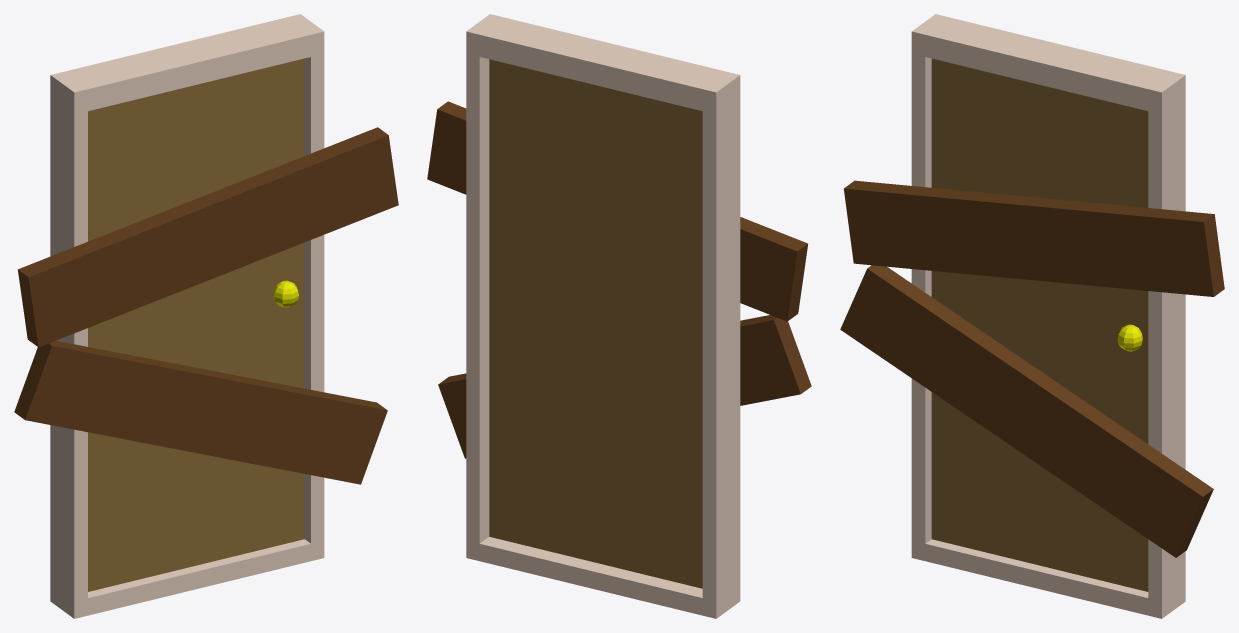
Rendered from doorway.glb.
3 renders of one model, left to right at view 1: azimuth 30°, elevation 25°; view 2: azimuth 150°, elevation 25°; view 3: azimuth 330°, elevation 25°, orthographic.
Visible parts, largest first — view 1: Cube; view 2: Cube; view 3: Cube.
Part boxes in pixels (x1,y1,x2,y2): Cube: (14, 14, 398, 618); Cube: (427, 14, 811, 618); Cube: (840, 14, 1224, 618).
Size of the model in its own units: 5.47 by 7.36 by 0.8875.
